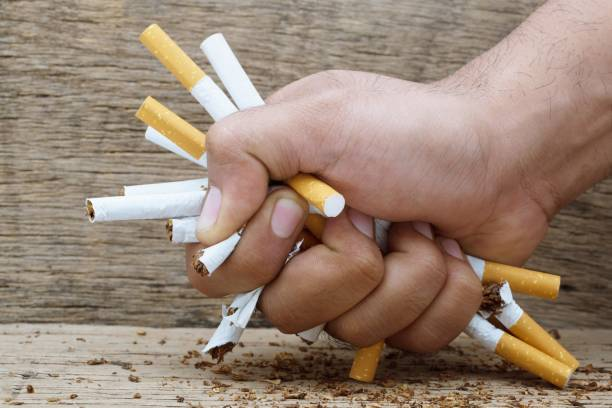cigarette: (138, 23, 239, 122), (477, 281, 581, 370), (462, 311, 574, 389), (133, 93, 208, 169), (199, 32, 267, 110), (463, 254, 562, 302), (84, 190, 209, 224), (201, 289, 254, 365), (189, 221, 247, 280), (285, 173, 347, 219), (143, 124, 204, 166), (118, 176, 209, 198), (347, 338, 385, 384), (164, 215, 201, 244), (295, 322, 326, 347)
